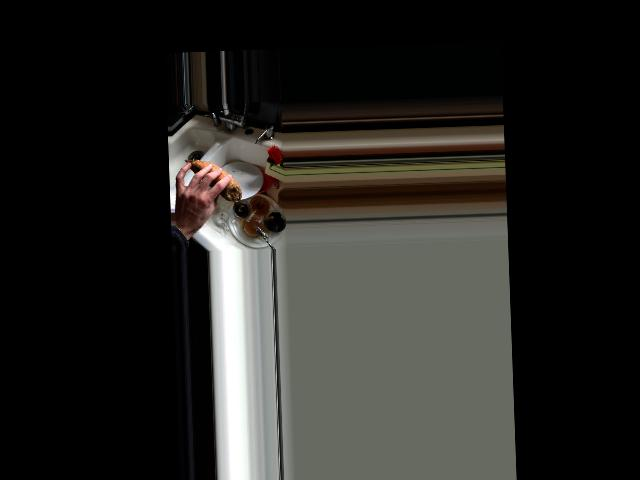sweet_potato: (184, 158, 240, 203)
